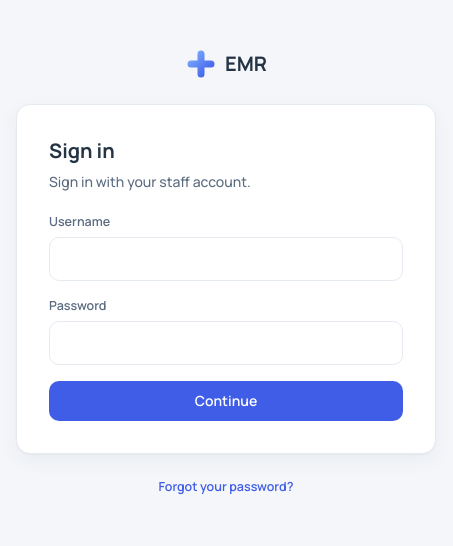
Test: sign-in (mock layer) › does not say which of username or password was wrong
Type "ada.doctor" into the field labelled "Username".
click(226, 259); type("ada.doctor")  # box [49,237,403,281]
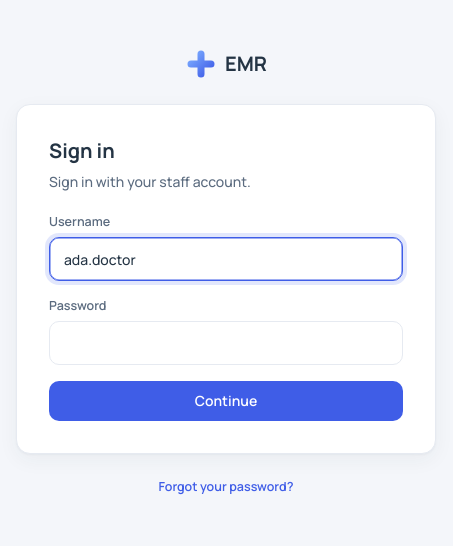
Type "wrong-password-1" into the password field labelled "Password".
click(226, 343); type("wrong-password-1")  # box [49,321,403,365]
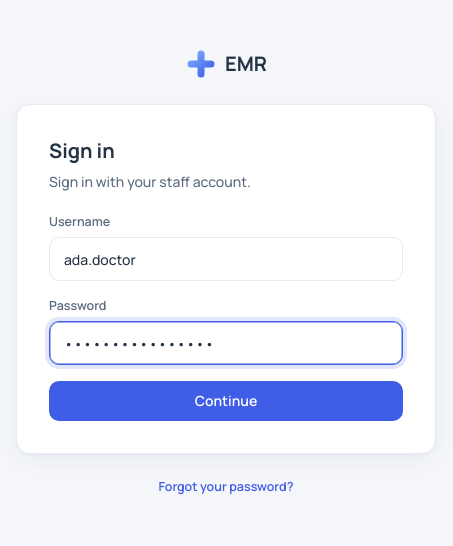
Click the button "Continue".
click(226, 401)  # box [49,381,403,421]
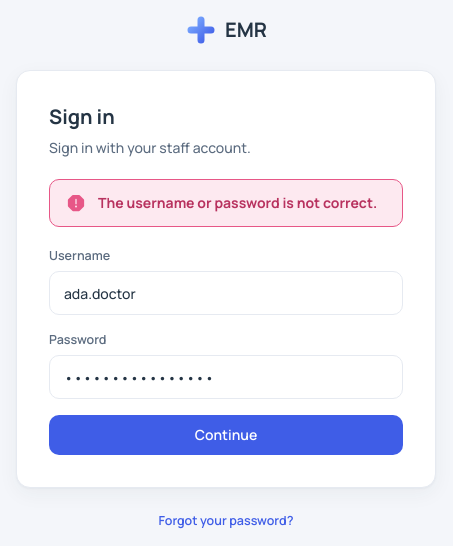
Check: the message reads "The username or password is not correct.", box [98,193,377,212]
